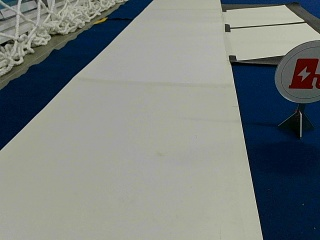battery: (275, 40, 320, 103)
